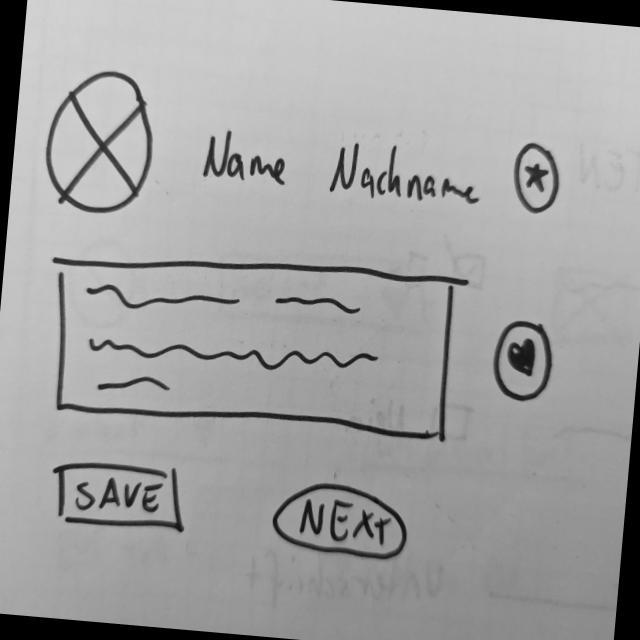button: (270, 474, 412, 564), (48, 453, 190, 538)
icon-button: (486, 316, 560, 403), (506, 138, 564, 216)
image: (38, 61, 164, 222)
label: (326, 134, 486, 212), (198, 125, 292, 194)
textbox: (46, 238, 459, 446)
